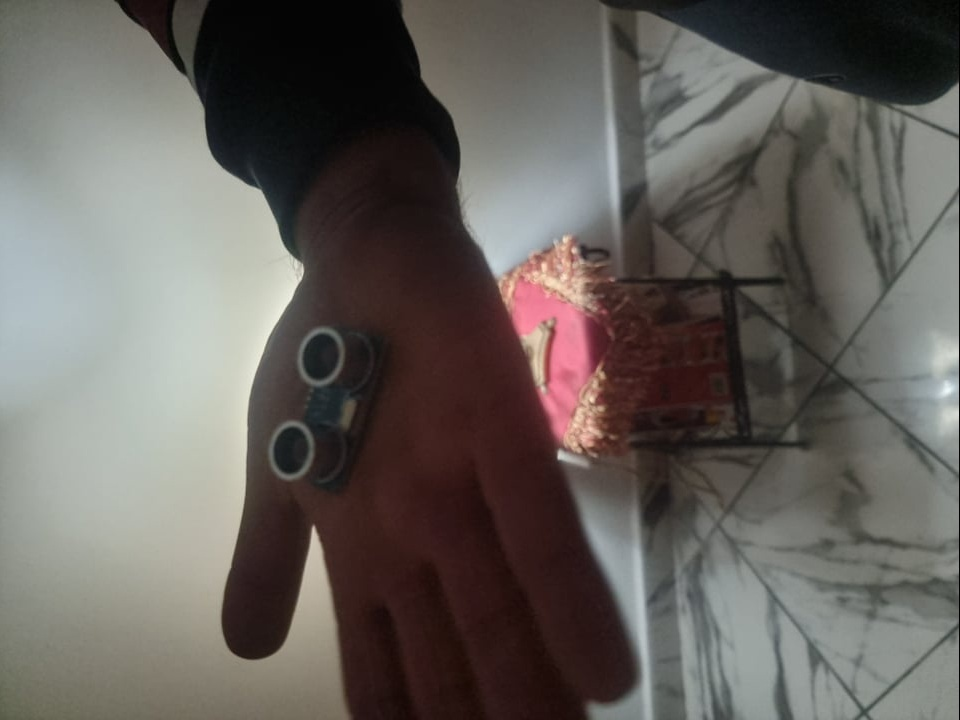SENSOR: (262, 321, 399, 501)
